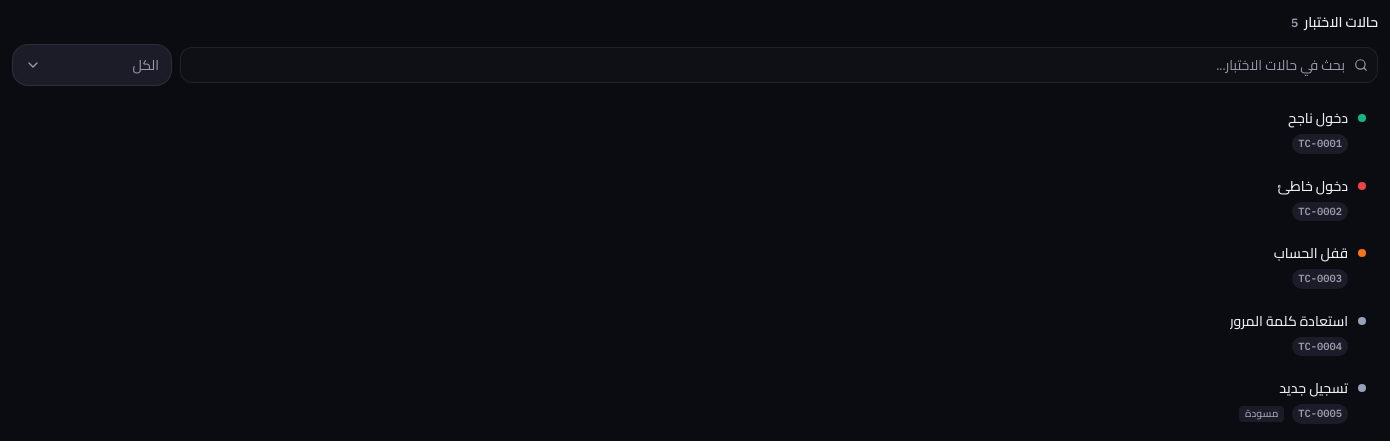
TestCasePanel › marks the active filter on the combobox value
Click the dropdown named "تصفية حالات الاختبار": (92, 65) x1=12 y1=44 x2=172 y2=86
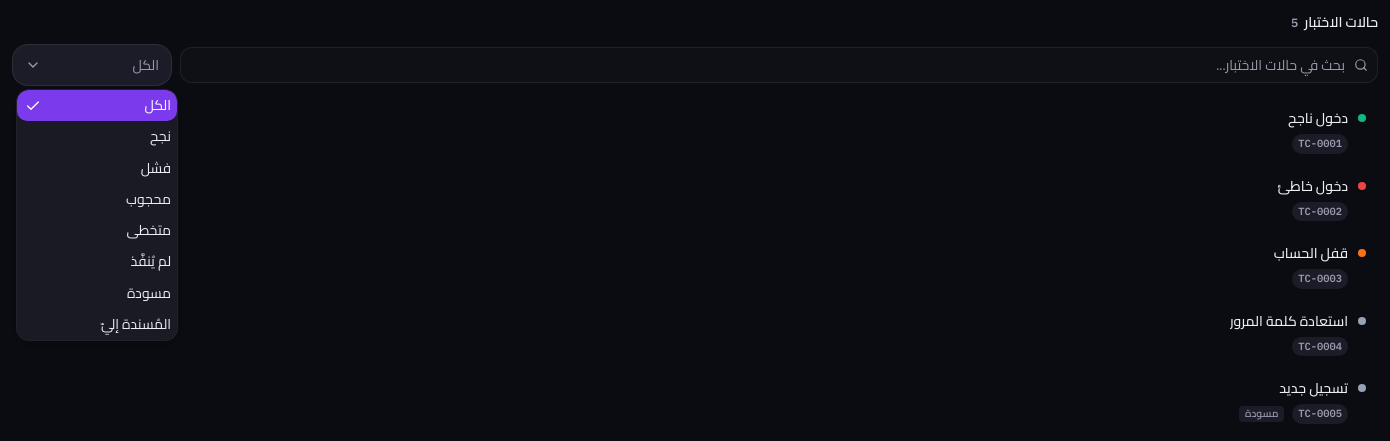
Click the option "محجوب": (148, 199) x1=126 y1=186 x2=171 y2=212
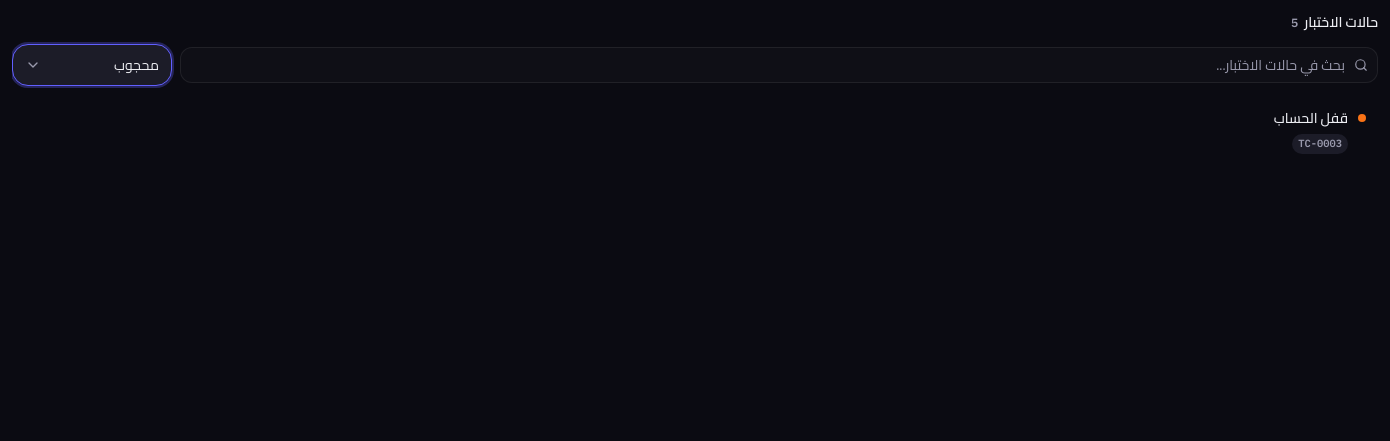
Expected: the dropdown named "تصفية حالات الاختبار" shows "محجوب", x1=12 y1=44 x2=172 y2=86
